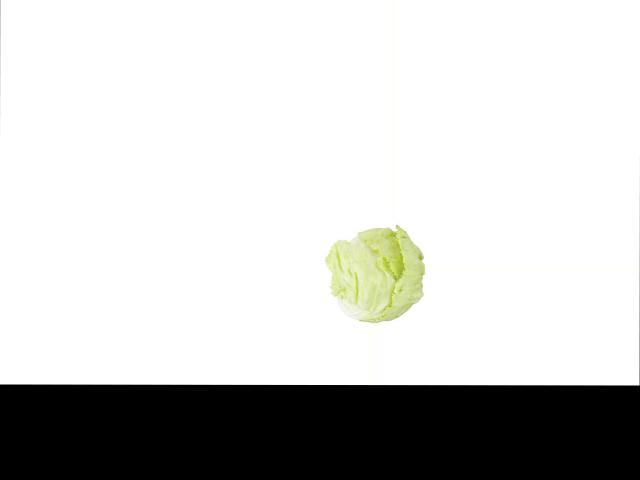lettuce: (329, 226, 424, 325)
